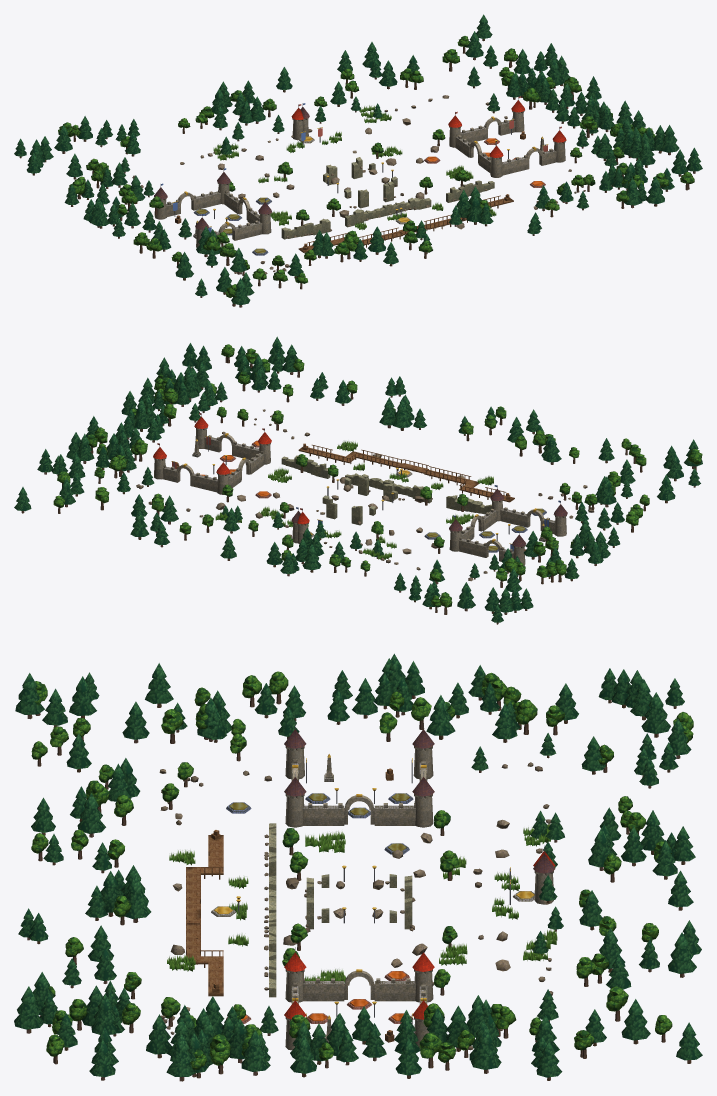
File: heights.glb
The picture shows the model from 3 angles, top to bottom: view 1: azimuth 30°, elevation 25°; view 2: azimuth 150°, elevation 25°; view 3: azimuth 270°, elevation 25°; orthographic projection. The views are drawn at different scales.
Parts seen in each view (by area): view 1: Props, TallGrass; view 2: Props, TallGrass; view 3: Props, TallGrass.
Part boxes in pixels (x1=…): Props: x1=14, y1=14, x2=702, y2=307; TallGrass: x1=213, y1=105, x2=496, y2=251; Props: x1=14, y1=336, x2=702, y2=624; TallGrass: x1=215, y1=441, x2=493, y2=559; Props: x1=14, y1=653, x2=702, y2=1081; TallGrass: x1=167, y1=823, x2=557, y2=982.
Bounding box in the file's own units: 123 × 12.02 × 91.3.
Materials: 12 (12 with a texture image).
